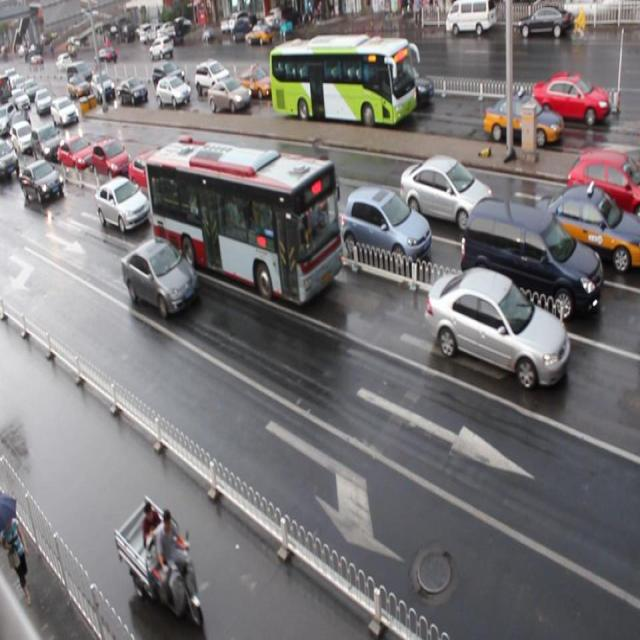car: (424, 267, 569, 390), (532, 184, 640, 277), (340, 188, 430, 272), (399, 156, 493, 232), (119, 236, 198, 316), (247, 159, 328, 233), (564, 149, 640, 226), (482, 94, 563, 152), (532, 71, 612, 128), (176, 150, 241, 207), (96, 176, 152, 234), (368, 64, 434, 111), (130, 145, 178, 194), (19, 159, 65, 206), (58, 134, 96, 174), (88, 136, 126, 175), (206, 81, 251, 112), (195, 60, 231, 96), (155, 75, 192, 110), (238, 68, 275, 100), (30, 126, 59, 163), (152, 61, 185, 92), (118, 78, 148, 106), (1, 139, 20, 180), (91, 72, 115, 104)
truck: (461, 194, 603, 325)
van: (145, 136, 344, 308), (269, 36, 417, 128)
